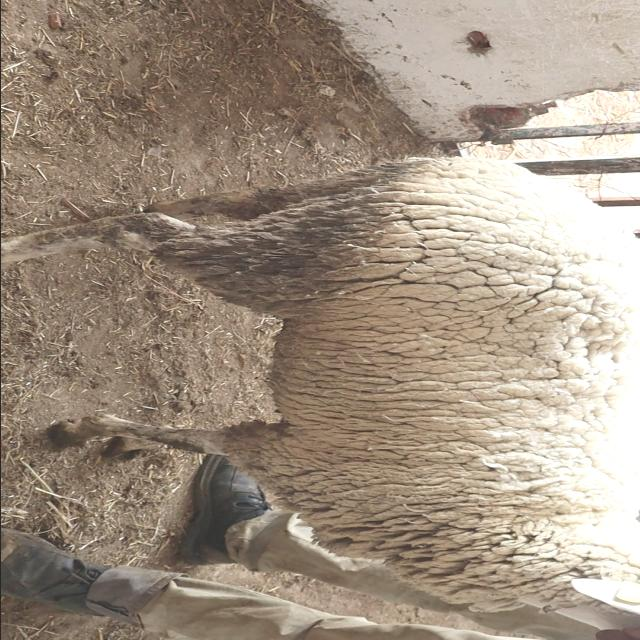Score_4: (1, 157, 640, 640)
